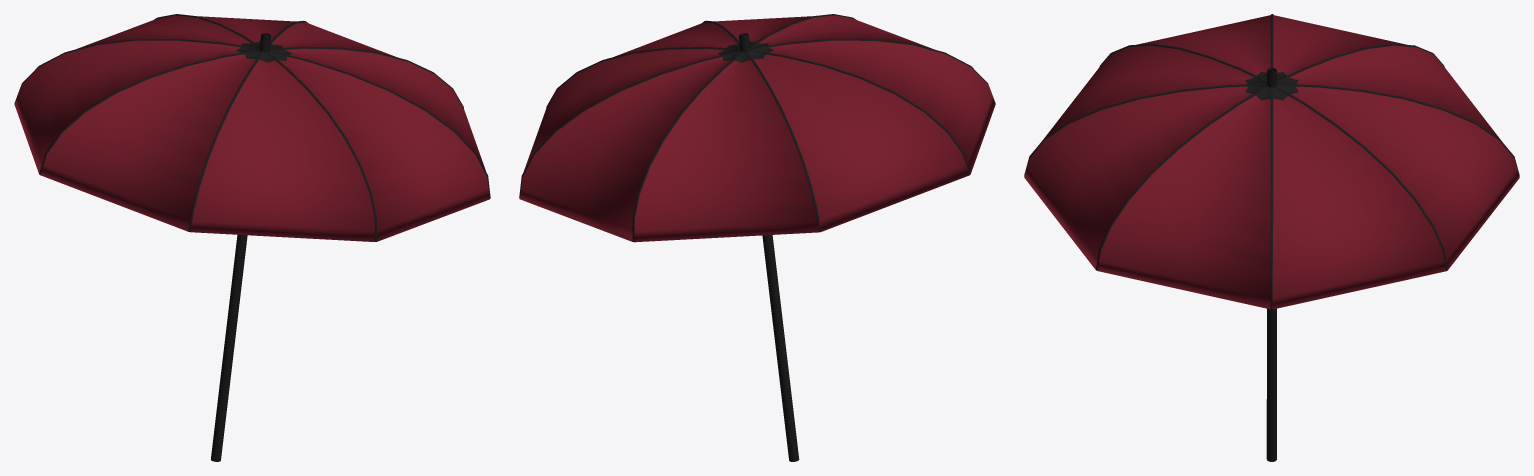
The model's file is japaneseParasol.fbx.
3 views of the same model, side by side, from view 1: azimuth 30°, elevation 25°; view 2: azimuth 150°, elevation 25°; view 3: azimuth 270°, elevation 25° (orthographic).
Visible parts, largest first — view 1: 球.003, 円柱.001; view 2: 球.003, 円柱.001; view 3: 球.003, 円柱.001.
Boxes of the visible parts, x1,y1,x2,y2 form: 球.003: (14, 14, 490, 241); 円柱.001: (211, 33, 271, 461); 球.003: (519, 14, 995, 242); 円柱.001: (738, 33, 799, 461); 球.003: (1024, 14, 1519, 309); 円柱.001: (1266, 68, 1276, 461).
Bounding box in the file's own units: 211 × 196 × 212.
